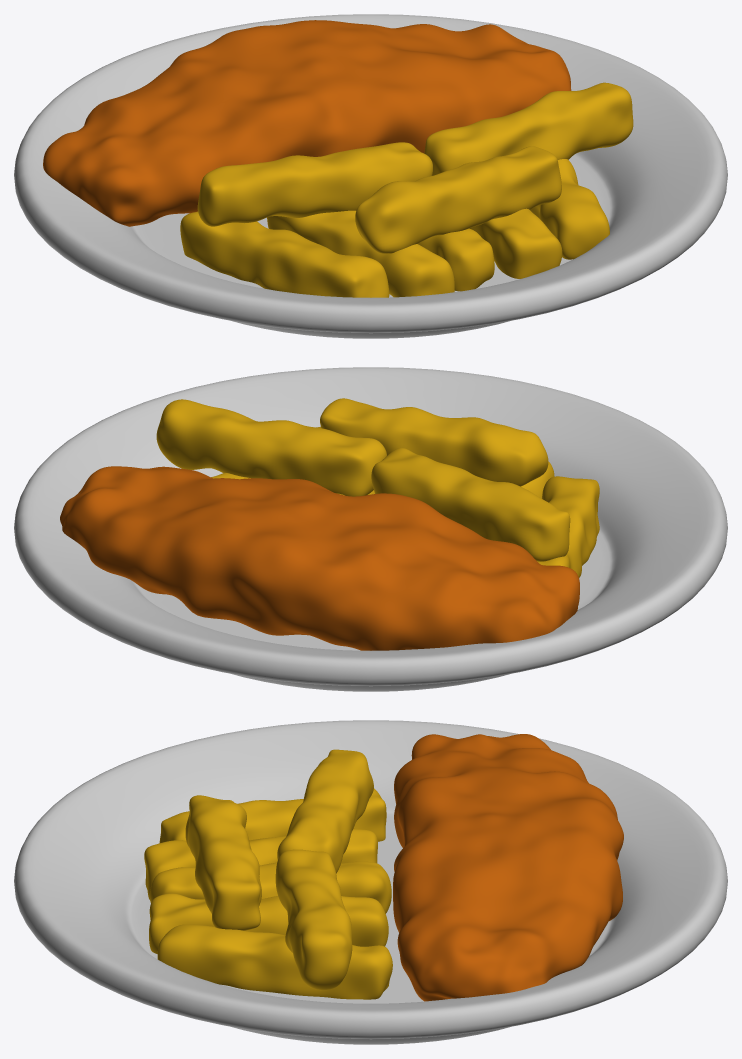
Rendered from fish-and-chip-3d-icon-812692422632.glb.
3 views of the same model, one above another, from view 1: azimuth 30°, elevation 25°; view 2: azimuth 150°, elevation 25°; view 3: azimuth 270°, elevation 25° (orthographic).
Visible parts, largest first — view 1: Plate, Chip, Meat; view 2: Plate, Meat, Chip; view 3: Plate, Meat, Chip.
Part boxes in pixels (left/top/right/bottom): Plate: left=14, top=14, right=727, bottom=338; Chip: left=180, top=82, right=633, bottom=297; Meat: left=43, top=20, right=571, bottom=226; Plate: left=14, top=367, right=727, bottom=691; Meat: left=60, top=466, right=579, bottom=650; Chip: left=156, top=398, right=599, bottom=577; Plate: left=14, top=720, right=727, bottom=1044; Meat: left=393, top=734, right=623, bottom=1001; Chip: left=144, top=749, right=392, bottom=999.
Bounding box in the file's own units: 2.01 × 0.4063 × 2.01.
